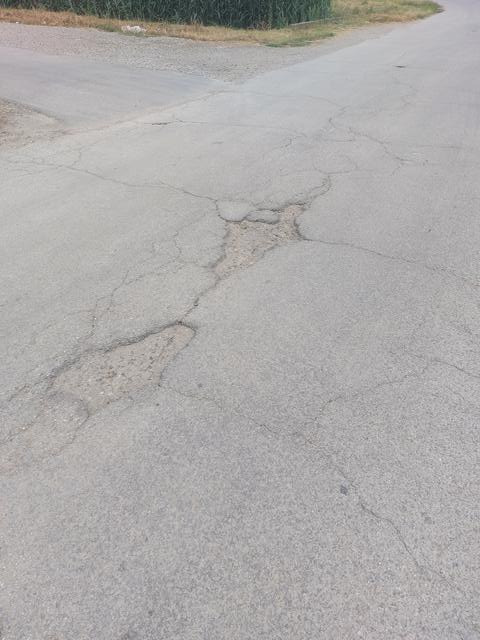pothole: (43, 294, 183, 432), (205, 188, 308, 295)
